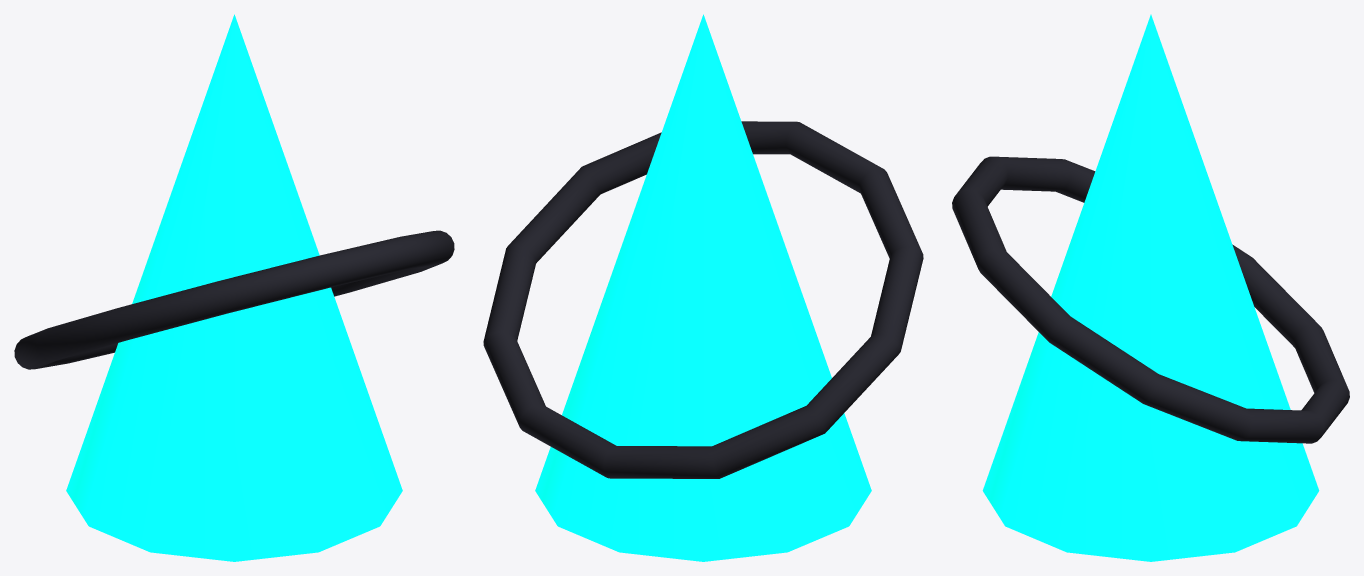
Rendered from spire_model.glb.
3 views of the same model, side by side, from view 1: azimuth 30°, elevation 25°; view 2: azimuth 150°, elevation 25°; view 3: azimuth 270°, elevation 25° (orthographic).
Size of the model in its own units: 2.16 by 2.5 by 1.89.
